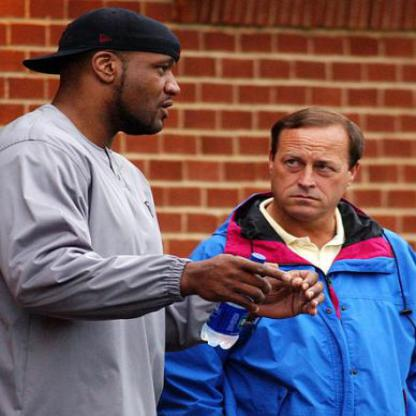face: (272, 112, 355, 221), (114, 26, 191, 138)
